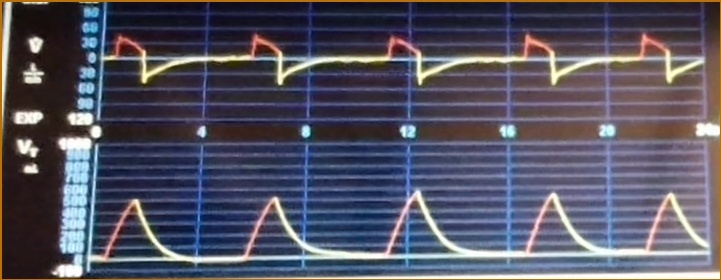Normal Flow: (106, 26, 704, 113)
Normal Volume: (95, 180, 709, 266)
